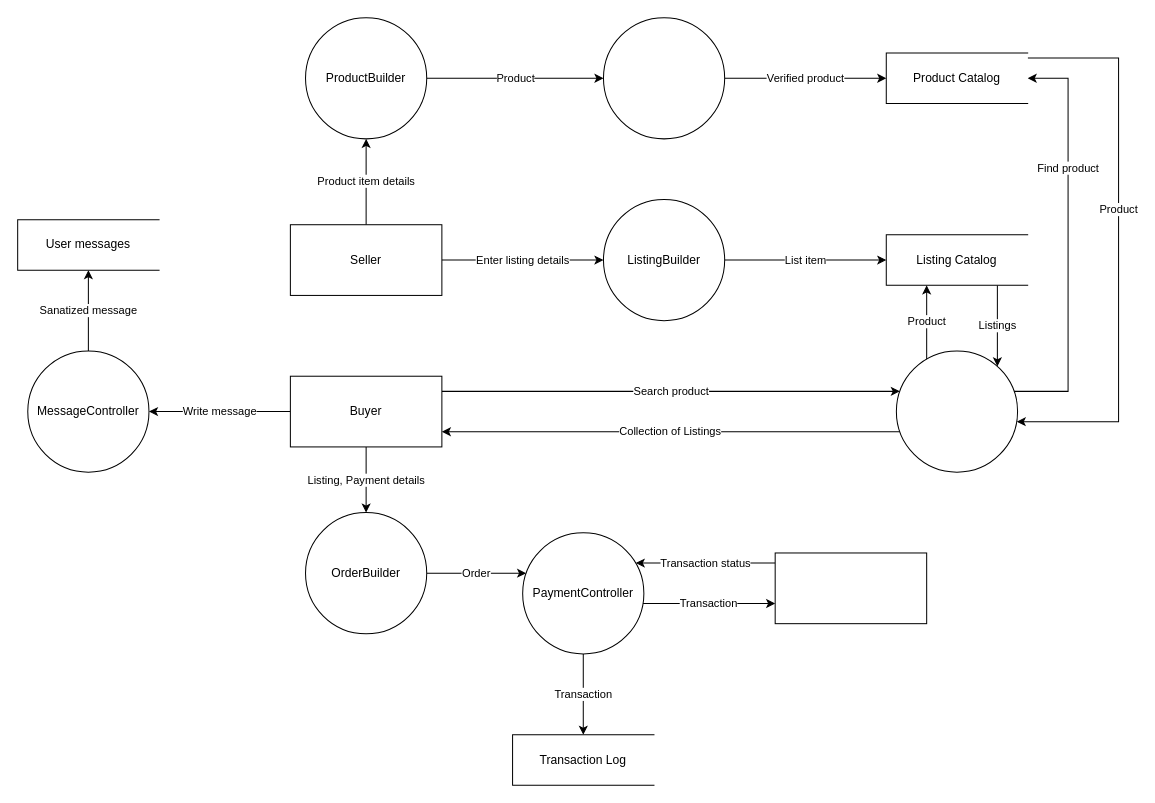
The diagram is 1155 pixels wide and 803 high, and some of its shapes have lost their labels. Here are the shapes that lost their labels. From the top down, the box of each, then its label:
(602, 17, 725, 139): ProductVerfier
(895, 350, 1018, 472): Search engine
(774, 552, 927, 624): Payment Gateway
